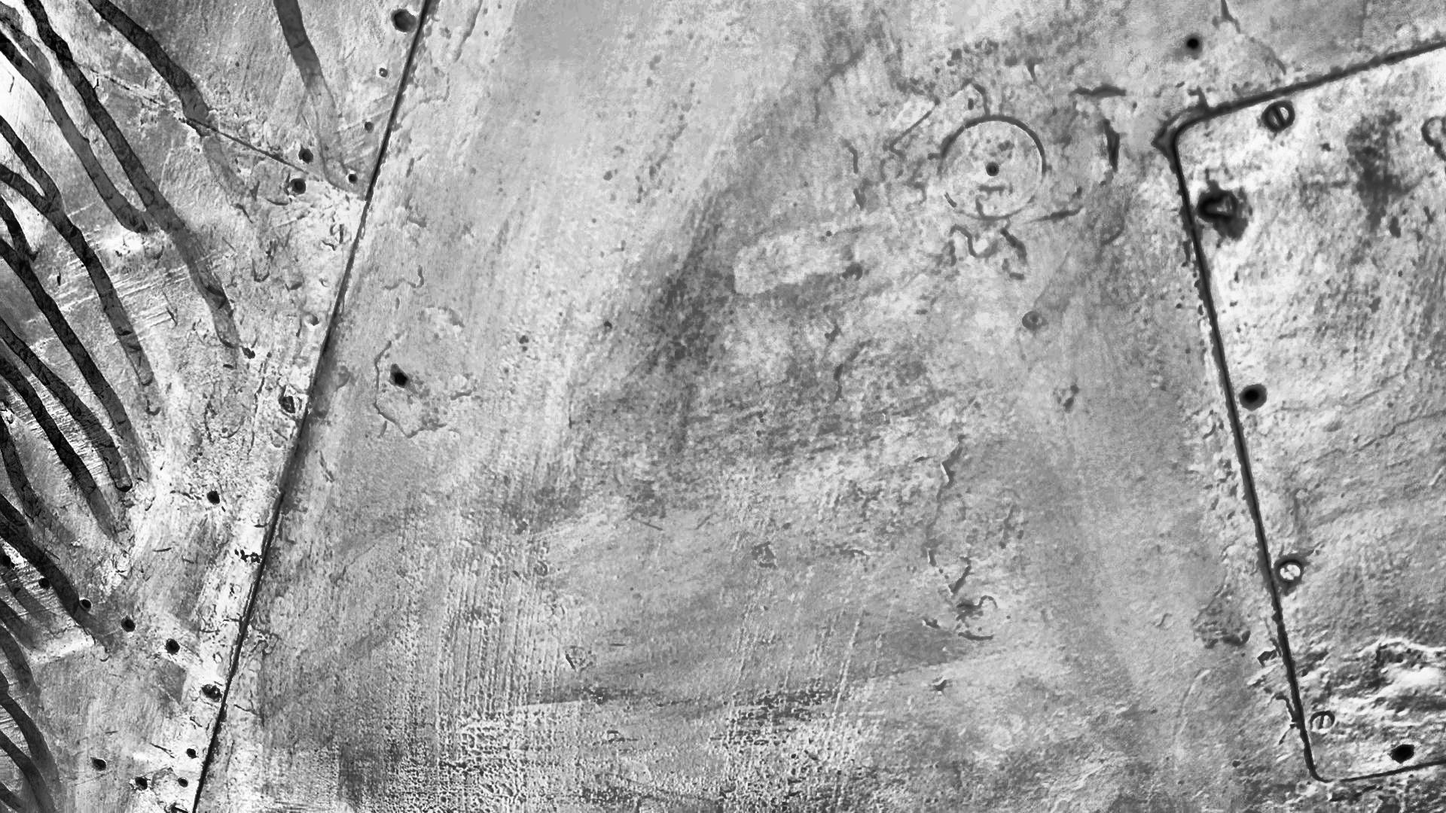dent: (115, 211, 209, 262)
missing-head: (1241, 382, 1265, 410), (394, 11, 414, 32), (1395, 743, 1416, 762), (290, 177, 307, 194), (164, 638, 181, 655), (299, 147, 314, 164), (0, 553, 17, 568), (120, 617, 134, 634), (79, 597, 96, 610), (38, 576, 51, 589), (185, 745, 196, 760), (346, 171, 358, 184), (177, 777, 186, 789)
scratch: (889, 105, 938, 149)
